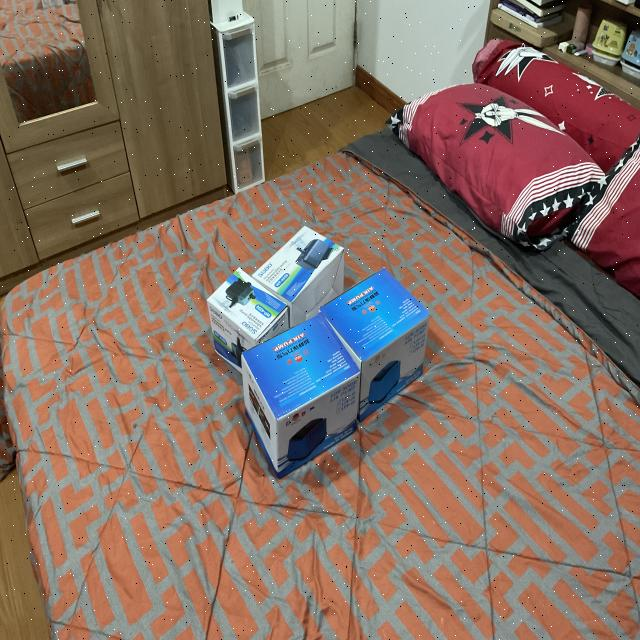SOBO_WP_4200: (255, 216, 352, 324), (201, 262, 289, 368)
YAMANO_LPP_20: (228, 330, 356, 502), (303, 275, 433, 440)
